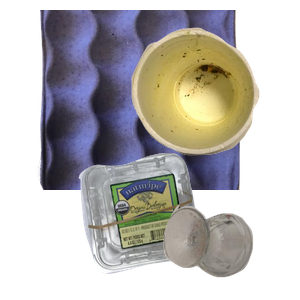glass: (161, 202, 300, 300)
paper: (35, 10, 268, 190)
plastic: (76, 151, 270, 300)
trash: (129, 25, 300, 173)
